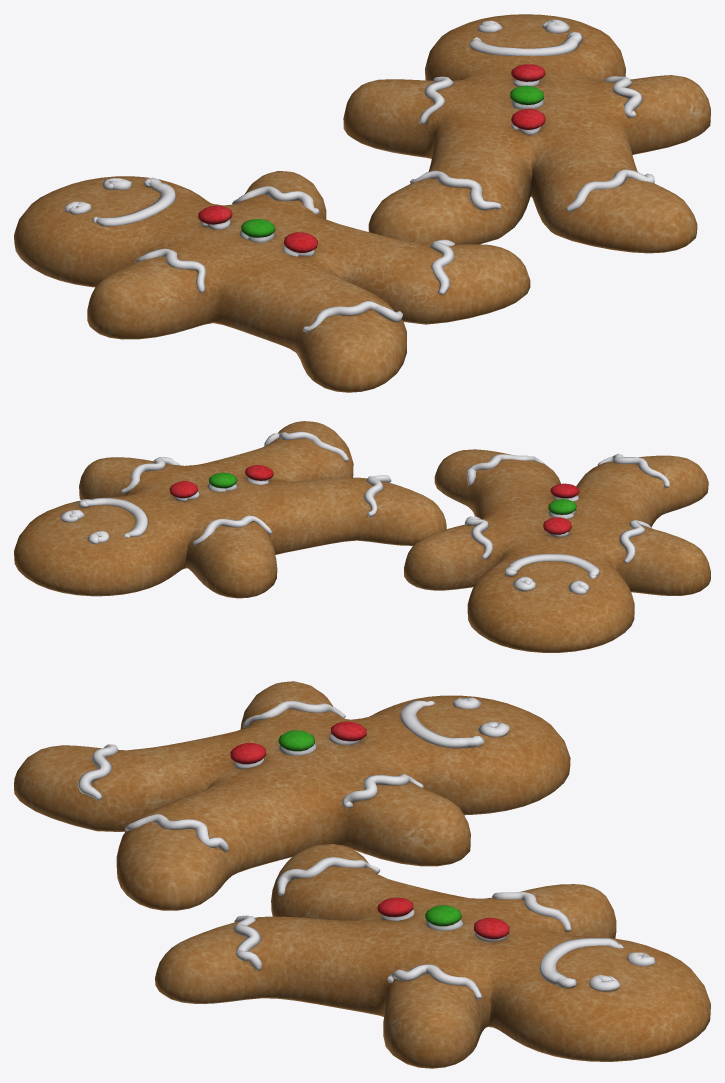
The model's file is gingerbread_man.glb.
The picture shows the model from 3 angles, top to bottom: view 1: azimuth 30°, elevation 25°; view 2: azimuth 150°, elevation 25°; view 3: azimuth 270°, elevation 25°; orthographic projection. The views are drawn at different scales.
Parts seen in each view (by area): view 1: gingerbreadman000, gingerbreadman001; view 2: gingerbreadman001, gingerbreadman000; view 3: gingerbreadman000, gingerbreadman001.
Boxes of the visible parts, box(x1,y1,x2,y2) form: gingerbreadman000: box(14, 171, 530, 392); gingerbreadman001: box(343, 14, 710, 253); gingerbreadman001: box(14, 421, 446, 598); gingerbreadman000: box(404, 449, 710, 652); gingerbreadman000: box(14, 681, 570, 910); gingerbreadman001: box(155, 844, 710, 1068).
Size of the model in its own units: 0.2751 by 0.0267 by 0.2299.
1 material, 1 textured.
